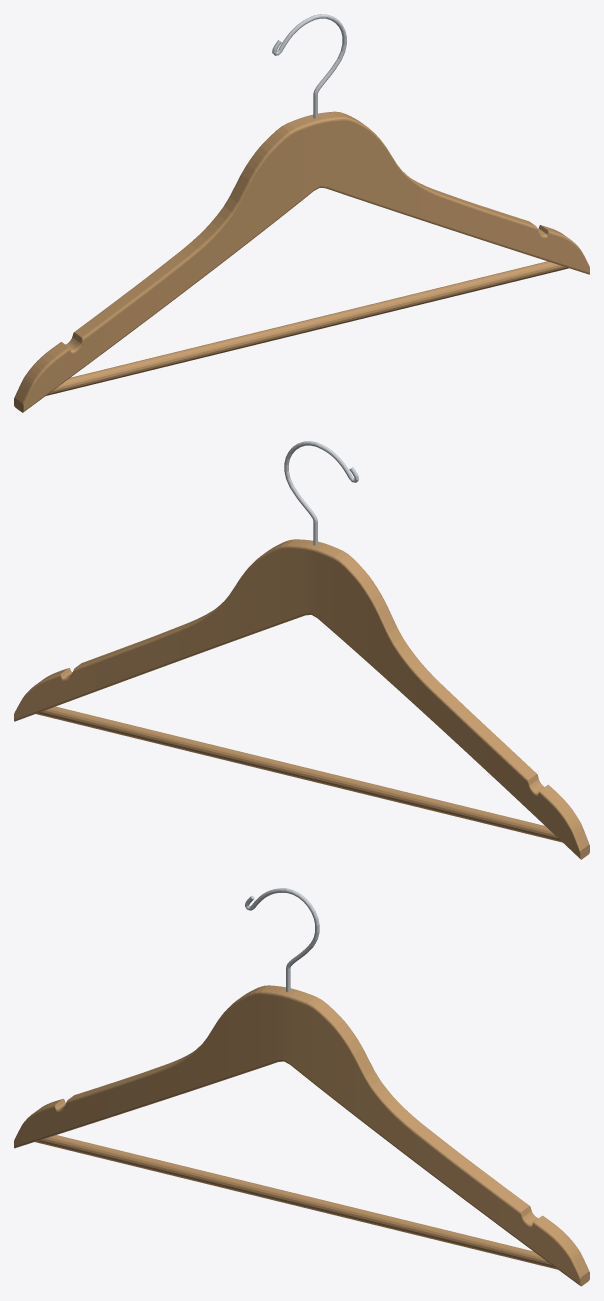
3 renders of one model, top to bottom at view 1: azimuth 30°, elevation 25°; view 2: azimuth 150°, elevation 25°; view 3: azimuth 330°, elevation 25°, orthographic.
Parts seen in each view (by area): view 1: Wooden_wishbone_shoulders_with_strap_notches, Fixed_round_wooden_trouser_bar, Open_metal_hook_seated_in_crown; view 2: Wooden_wishbone_shoulders_with_strap_notches, Fixed_round_wooden_trouser_bar, Open_metal_hook_seated_in_crown; view 3: Wooden_wishbone_shoulders_with_strap_notches, Fixed_round_wooden_trouser_bar, Open_metal_hook_seated_in_crown.
Boxes of the visible parts, x1,y1,x2,y2 form: Wooden_wishbone_shoulders_with_strap_notches: (14, 111, 589, 412); Fixed_round_wooden_trouser_bar: (46, 261, 568, 395); Open_metal_hook_seated_in_crown: (272, 14, 346, 118); Wooden_wishbone_shoulders_with_strap_notches: (14, 539, 589, 859); Fixed_round_wooden_trouser_bar: (36, 706, 562, 842); Open_metal_hook_seated_in_crown: (284, 441, 358, 545); Wooden_wishbone_shoulders_with_strap_notches: (14, 985, 589, 1286); Fixed_round_wooden_trouser_bar: (35, 1135, 557, 1269); Open_metal_hook_seated_in_crown: (245, 888, 319, 992).
Size of the model in its own units: 0.4318 by 0.2446 by 0.0307.
